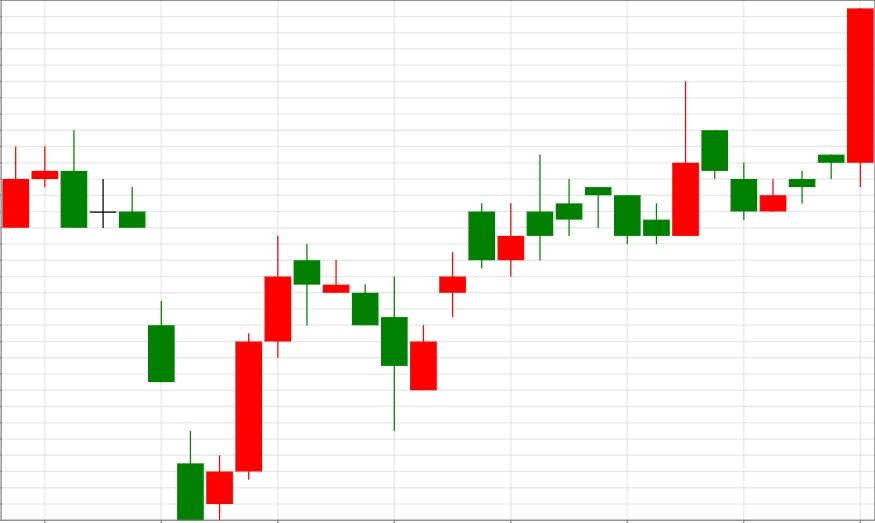three_white_soldiers_rise: (60, 130, 293, 521)
